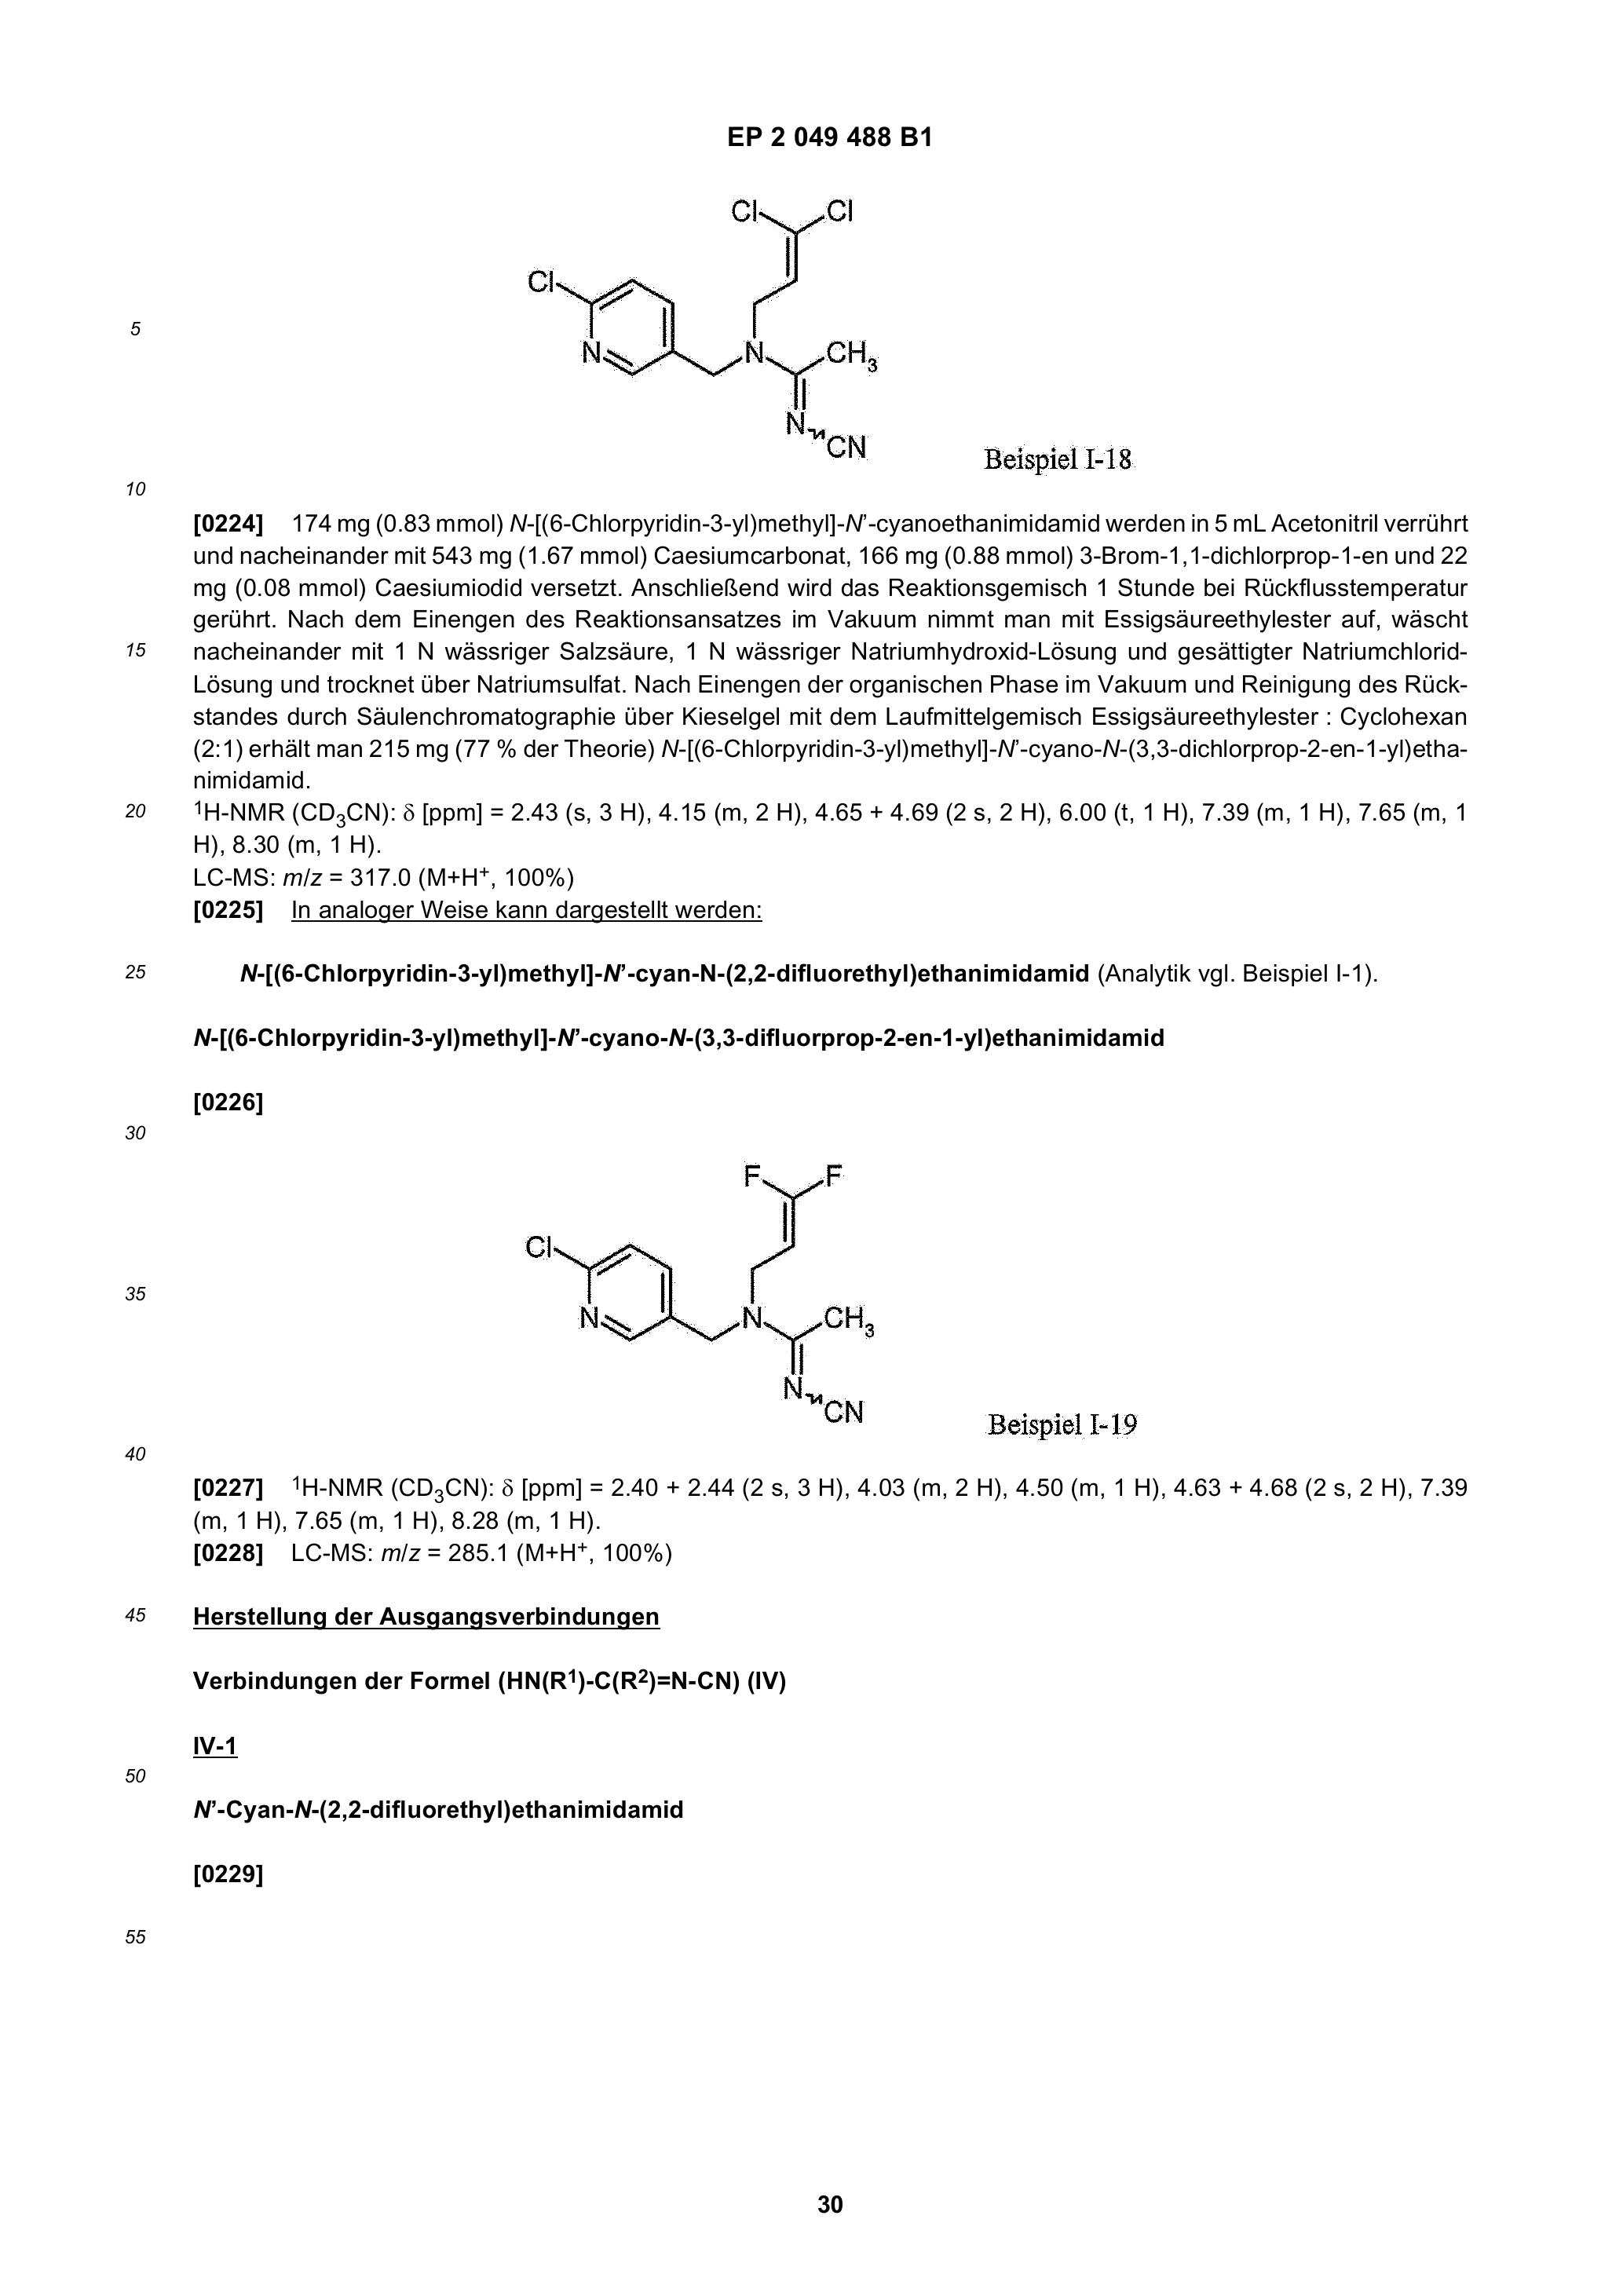relevant-structures: (476, 148, 1001, 543), (450, 1091, 941, 1439)
